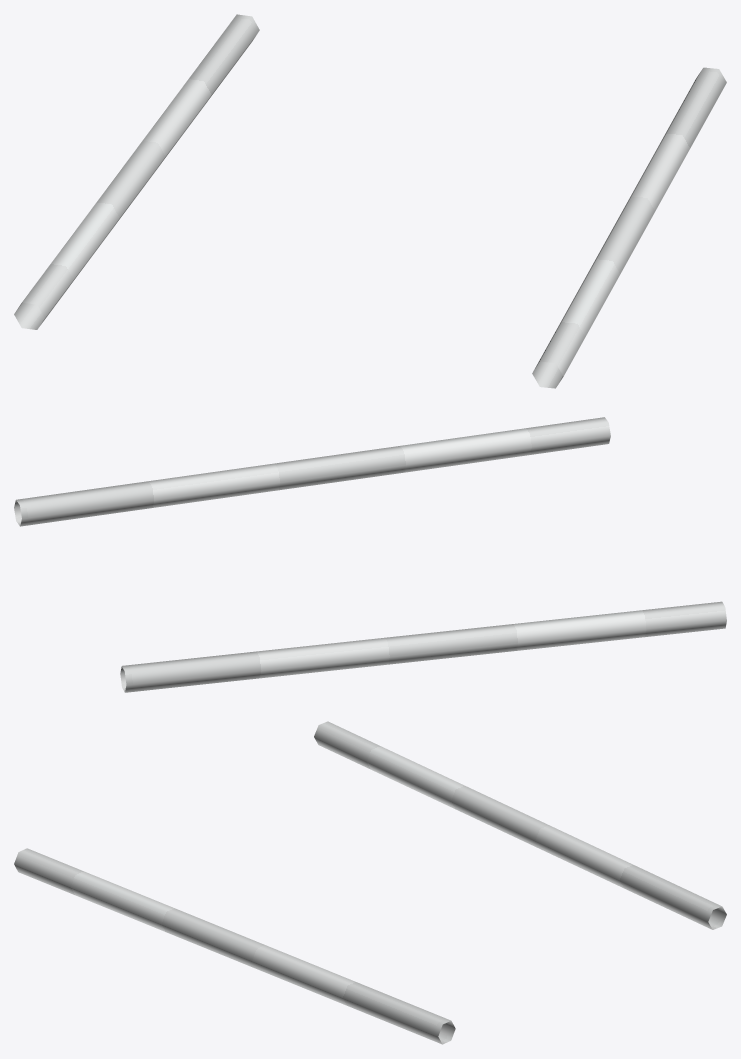
File: nycsignalarm_diagonal12_c9.obj
3 renders of one model, top to bottom at view 1: azimuth 30°, elevation 25°; view 2: azimuth 150°, elevation 25°; view 3: azimuth 270°, elevation 25°, orthographic. The views are drawn at different scales.
Visible parts, largest first — view 1: nycsignalarm_diagonal12_c9; view 2: nycsignalarm_diagonal12_c9; view 3: nycsignalarm_diagonal12_c9.
Boxes of the visible parts, box(x1,y1,x2,y2) form: nycsignalarm_diagonal12_c9: box(14, 14, 726, 388); nycsignalarm_diagonal12_c9: box(14, 417, 726, 692); nycsignalarm_diagonal12_c9: box(14, 721, 726, 1044).
Bounding box in the file's own units: 1.74 × 0.0696 × 1.74.
